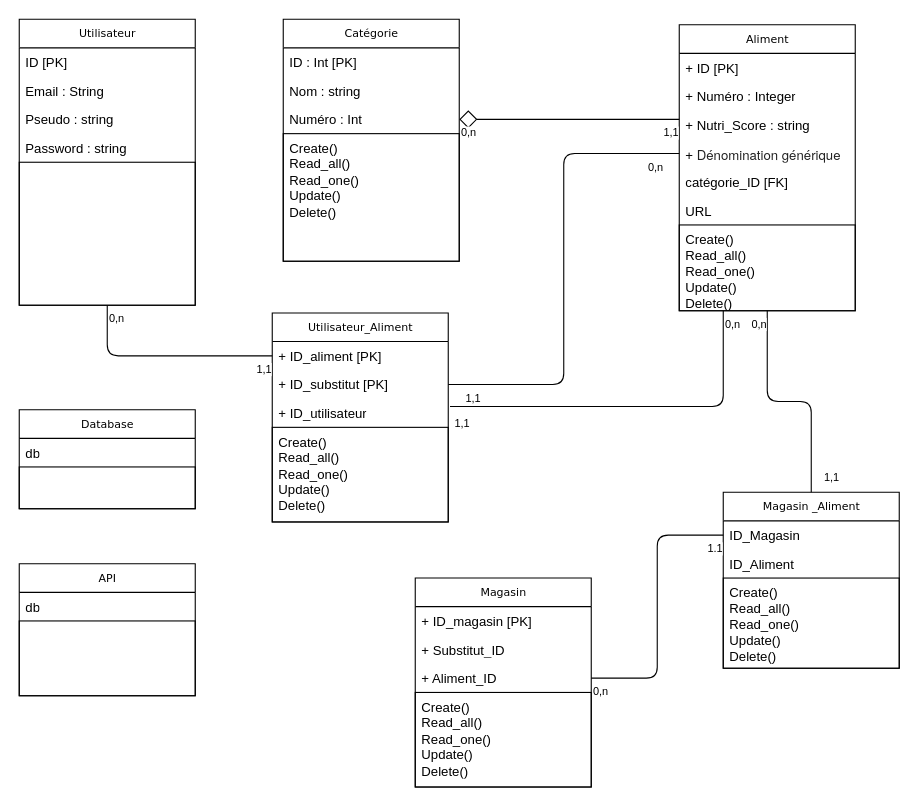
The diagram is 919 pixels wide and 810 high, and some of its shapes have lost their labels. The shapes that lost their labels are listed below. From the top down, each one's centre as x and y in pixels, then its label:
(x=106, y=233): Create() Read_all() Read_one() Update() Delete() Find_if_exist()
(x=106, y=487): Create_if_not_exist()
(x=106, y=658): Importing_data() Updated_data() Clean_data()
